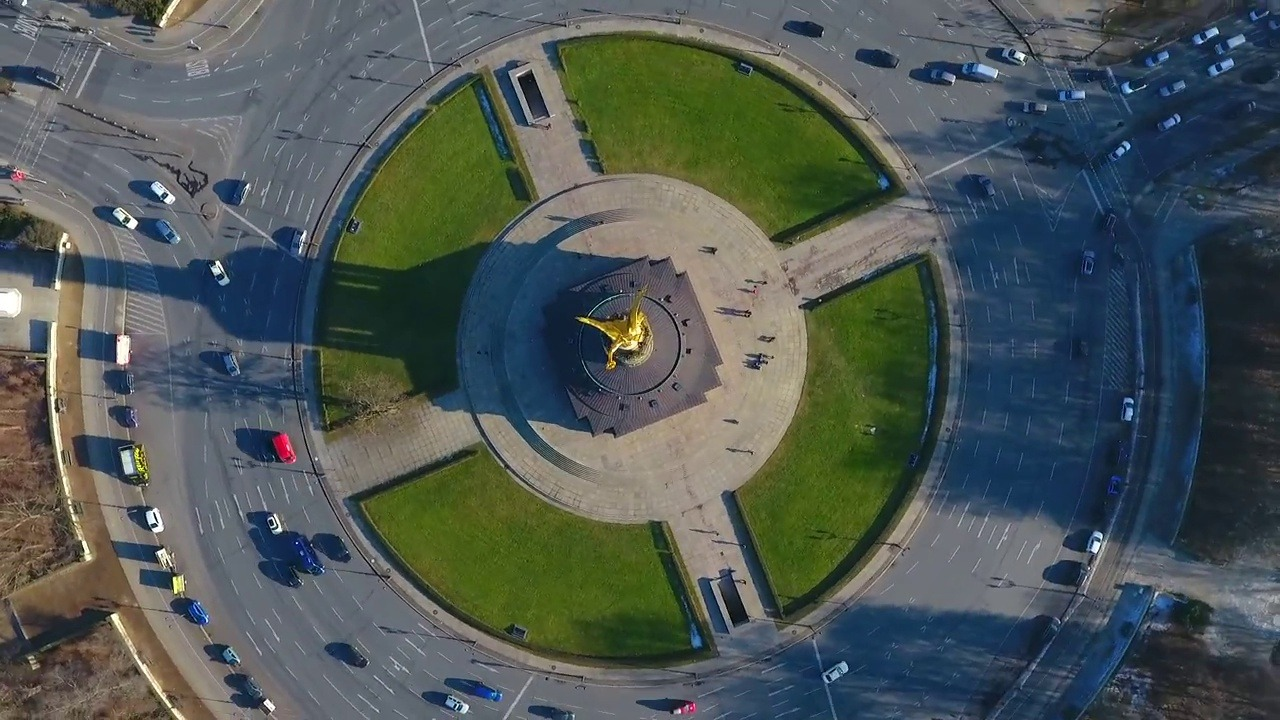car: (146, 175, 181, 211), (149, 215, 186, 248), (203, 253, 234, 292), (139, 500, 169, 539), (816, 657, 855, 687), (1103, 135, 1136, 166), (994, 44, 1033, 70), (1151, 108, 1184, 138), (922, 62, 960, 88), (110, 204, 142, 232), (261, 508, 288, 541), (1081, 525, 1107, 559), (1203, 55, 1237, 81), (1053, 83, 1092, 105), (1157, 76, 1190, 102), (1142, 47, 1176, 72), (1018, 92, 1051, 117), (221, 347, 245, 380), (1190, 22, 1224, 45), (1119, 391, 1139, 427)
van: (958, 51, 1002, 88), (267, 428, 298, 472), (1212, 27, 1251, 58)
